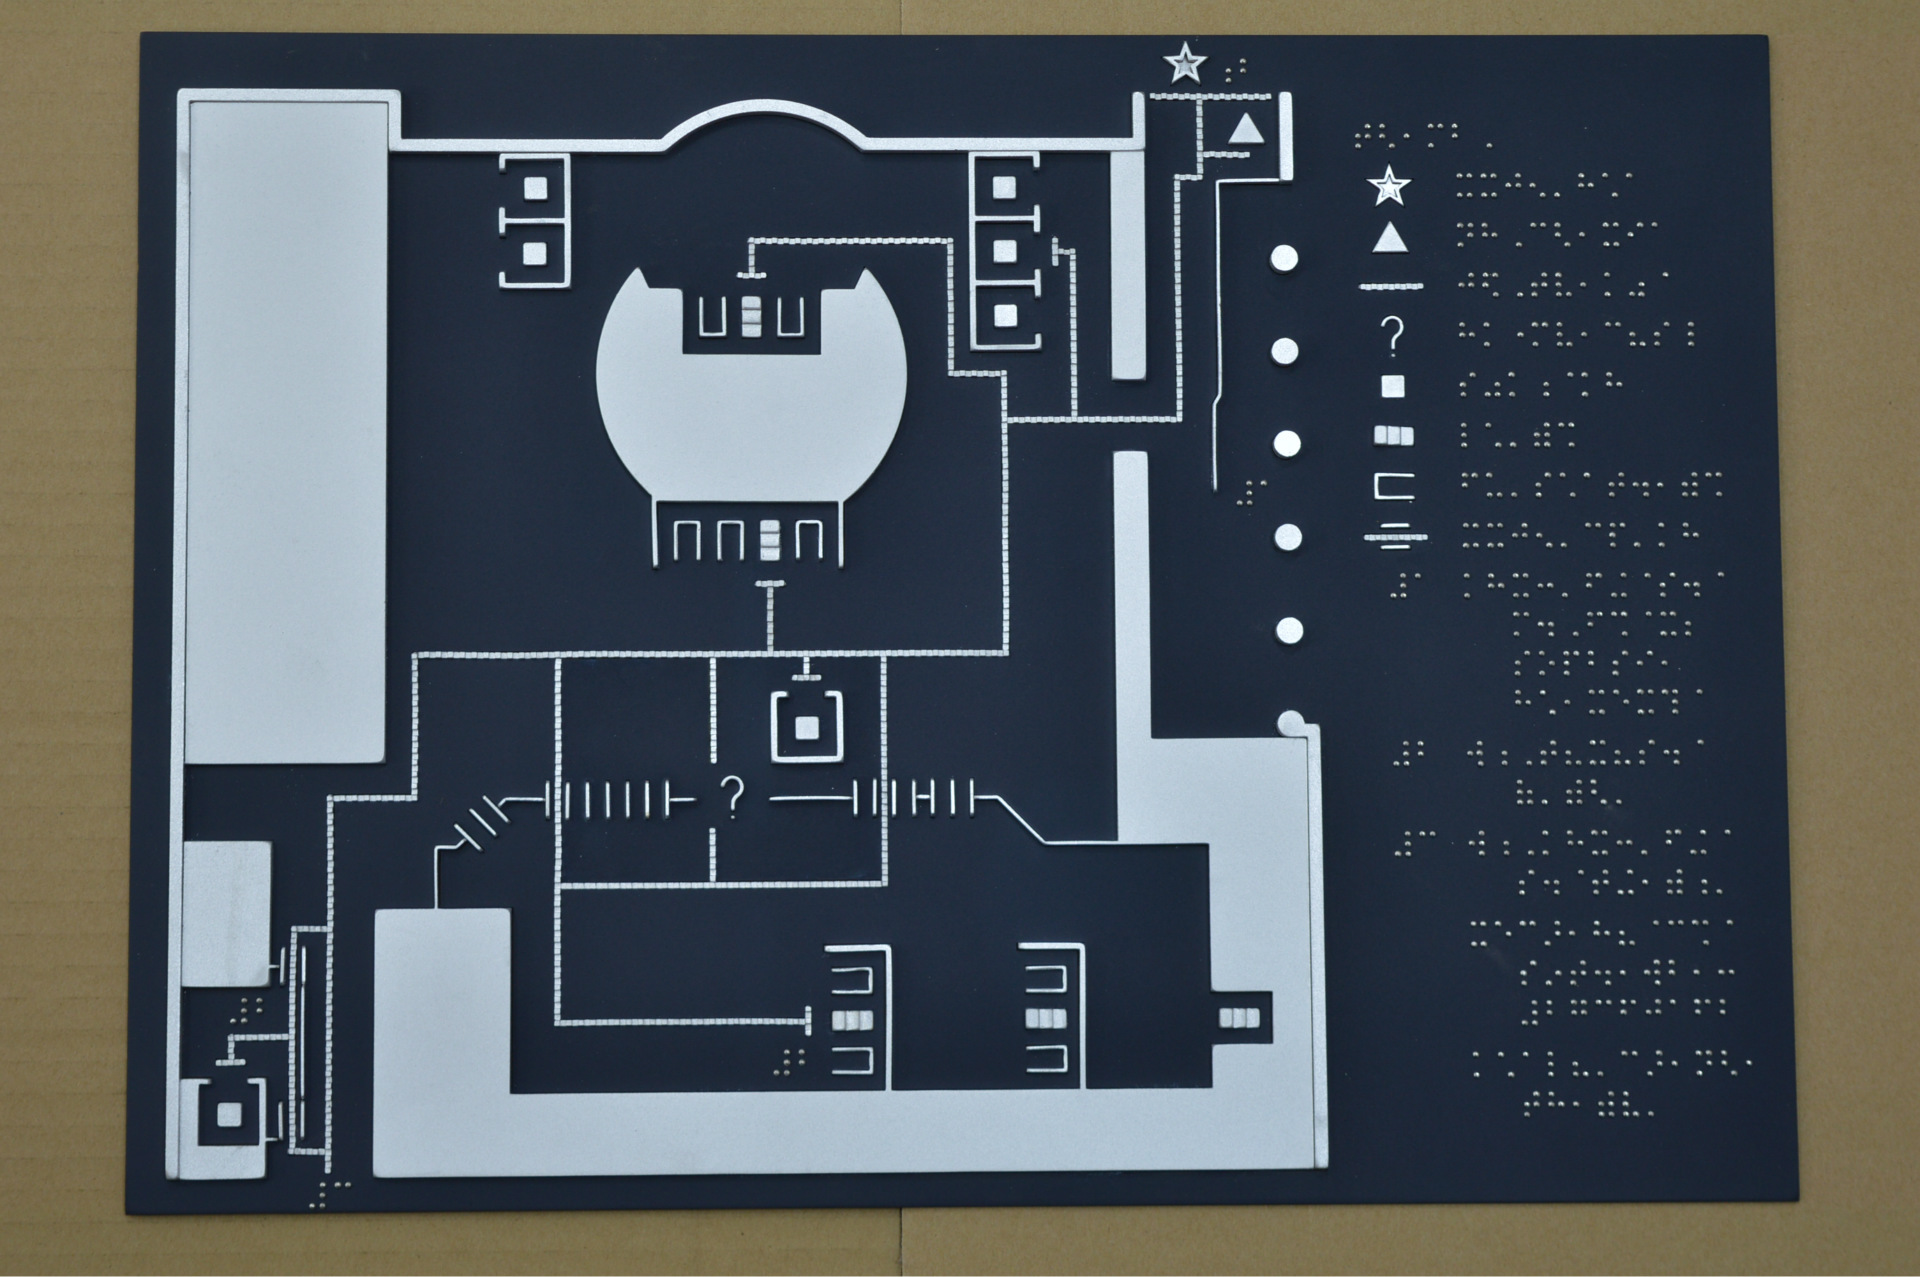Braille: (1718, 1046, 1740, 1079), (1668, 1049, 1691, 1080), (1599, 170, 1621, 201), (1624, 170, 1645, 201), (1552, 219, 1574, 251), (1649, 218, 1671, 249), (1484, 470, 1505, 502), (1631, 470, 1652, 502), (1655, 470, 1676, 502), (1491, 827, 1512, 858), (1588, 827, 1609, 858), (1517, 867, 1538, 898), (1619, 956, 1641, 988), (1691, 956, 1712, 988), (795, 1046, 817, 1077), (228, 995, 249, 1026), (255, 995, 277, 1026), (1606, 469, 1626, 502), (1681, 467, 1700, 500), (1614, 827, 1633, 859), (1619, 1048, 1639, 1080), (1743, 1048, 1763, 1080), (1547, 1089, 1567, 1122), (1596, 1087, 1616, 1120), (1621, 1087, 1641, 1120), (334, 1179, 353, 1211), (1450, 120, 1471, 150), (1478, 170, 1500, 200), (1527, 170, 1548, 200), (1576, 219, 1598, 249), (1599, 219, 1621, 249), (1505, 319, 1527, 349), (1465, 827, 1487, 857), (1689, 867, 1710, 896), (1713, 867, 1735, 896), (1716, 958, 1738, 988), (1646, 1090, 1668, 1120), (771, 1048, 793, 1077), (1353, 120, 1373, 151), (1505, 268, 1525, 299), (1579, 269, 1599, 301), (1628, 269, 1648, 301), (1529, 318, 1549, 349), (1604, 318, 1624, 349), (1676, 319, 1696, 351), (1482, 369, 1502, 400), (1507, 368, 1527, 399), (1531, 369, 1551, 400), (1508, 419, 1528, 450), (1509, 470, 1529, 502), (1534, 469, 1554, 500), (1703, 467, 1723, 499), (1487, 520, 1507, 552), (1611, 648, 1631, 680), (1635, 686, 1655, 717), (1661, 687, 1681, 718), (1683, 687, 1703, 718), (1564, 737, 1584, 768), (1614, 737, 1633, 768), (1665, 865, 1685, 896), (1591, 867, 1611, 898), (1492, 918, 1512, 949), (1616, 916, 1636, 948), (1568, 956, 1588, 988), (1594, 956, 1614, 988), (1642, 956, 1662, 988), (1547, 996, 1567, 1028), (1643, 995, 1663, 1026), (1668, 995, 1688, 1026), (1471, 1049, 1491, 1080), (1497, 1048, 1517, 1079), (1519, 1048, 1539, 1079), (1571, 1048, 1591, 1079), (1645, 1048, 1665, 1079), (1571, 1090, 1591, 1122), (306, 1180, 326, 1211), (1502, 170, 1524, 198), (1555, 321, 1576, 349), (1555, 371, 1576, 399), (1653, 318, 1672, 351), (1522, 1087, 1541, 1120), (1377, 121, 1397, 151), (1425, 120, 1445, 150), (1554, 170, 1574, 200), (1455, 219, 1475, 249), (1480, 219, 1500, 249), (1504, 219, 1524, 249), (1528, 219, 1548, 249), (1457, 269, 1477, 299), (1481, 269, 1501, 299), (1529, 269, 1549, 299), (1554, 269, 1574, 299), (1579, 319, 1599, 349), (1628, 321, 1648, 351), (1240, 56, 1260, 86), (1557, 470, 1576, 500), (1582, 470, 1602, 500), (1656, 520, 1676, 550), (1658, 570, 1678, 600), (1537, 610, 1557, 640), (1609, 609, 1629, 638), (1512, 648, 1532, 678), (1539, 688, 1559, 718), (1611, 687, 1631, 717), (1514, 738, 1534, 768), (1588, 738, 1608, 768), (1661, 737, 1681, 767), (1234, 477, 1254, 507), (1564, 777, 1584, 807), (1614, 777, 1633, 807), (1517, 829, 1537, 859), (1688, 827, 1708, 857), (1567, 868, 1586, 898), (1567, 918, 1586, 948), (1641, 916, 1661, 946), (1691, 918, 1710, 948), (1544, 958, 1564, 988), (1569, 998, 1589, 1028), (1547, 1049, 1567, 1079), (1602, 268, 1621, 299), (1484, 419, 1502, 450), (1534, 420, 1552, 452), (1535, 519, 1554, 550), (1611, 569, 1629, 600), (1589, 775, 1608, 807), (1394, 828, 1413, 859), (1565, 827, 1584, 858), (1544, 868, 1562, 899), (1470, 918, 1488, 949), (1544, 918, 1562, 949), (1668, 956, 1686, 988), (1521, 998, 1539, 1029), (1718, 995, 1736, 1026), (1695, 1048, 1713, 1079), (1413, 572, 1434, 599), (1454, 171, 1474, 200), (1214, 57, 1234, 86), (1579, 371, 1599, 399), (1557, 420, 1576, 449), (1460, 470, 1480, 499), (1631, 522, 1651, 550), (1559, 522, 1579, 550), (1509, 570, 1529, 599), (1586, 648, 1606, 677), (1586, 687, 1606, 715), (1415, 740, 1435, 768), (1490, 740, 1509, 768), (1639, 829, 1659, 858), (1641, 868, 1661, 896), (1403, 121, 1421, 151), (1576, 170, 1595, 200), (1626, 219, 1645, 249), (1652, 269, 1671, 299), (1661, 609, 1679, 638), (1538, 648, 1557, 678), (1635, 648, 1653, 678), (1661, 648, 1679, 678), (1514, 687, 1532, 717), (1564, 688, 1582, 718), (1465, 740, 1484, 770), (1638, 737, 1656, 767), (1686, 735, 1705, 765), (1260, 477, 1279, 507), (1517, 777, 1535, 807), (1539, 777, 1558, 807), (1418, 828, 1437, 858), (1541, 828, 1559, 858), (1663, 827, 1682, 857), (1616, 867, 1635, 896), (1518, 916, 1537, 946), (1716, 918, 1735, 948), (1519, 958, 1538, 988), (1595, 998, 1614, 1028), (1619, 998, 1638, 1028), (1693, 996, 1712, 1026), (1596, 1048, 1615, 1077), (1462, 572, 1482, 599), (1460, 369, 1477, 400), (1393, 737, 1410, 768), (1458, 319, 1477, 348), (1605, 371, 1624, 399), (1460, 420, 1478, 449), (1511, 520, 1529, 549), (1682, 520, 1700, 549), (1584, 520, 1602, 549), (1388, 572, 1407, 600), (1487, 570, 1505, 599), (1561, 572, 1579, 600), (1584, 570, 1602, 599), (1633, 570, 1652, 599), (1708, 570, 1726, 599), (1635, 609, 1653, 637), (1683, 610, 1702, 638), (1539, 738, 1558, 767), (1713, 827, 1732, 855), (1462, 520, 1480, 550), (1586, 609, 1604, 638), (1562, 648, 1579, 678), (1594, 916, 1611, 946), (1668, 916, 1685, 946), (1682, 572, 1700, 599), (1477, 121, 1492, 152), (1482, 321, 1500, 349), (1609, 520, 1626, 549), (1512, 610, 1529, 638), (1537, 572, 1554, 599), (1562, 611, 1579, 638)
